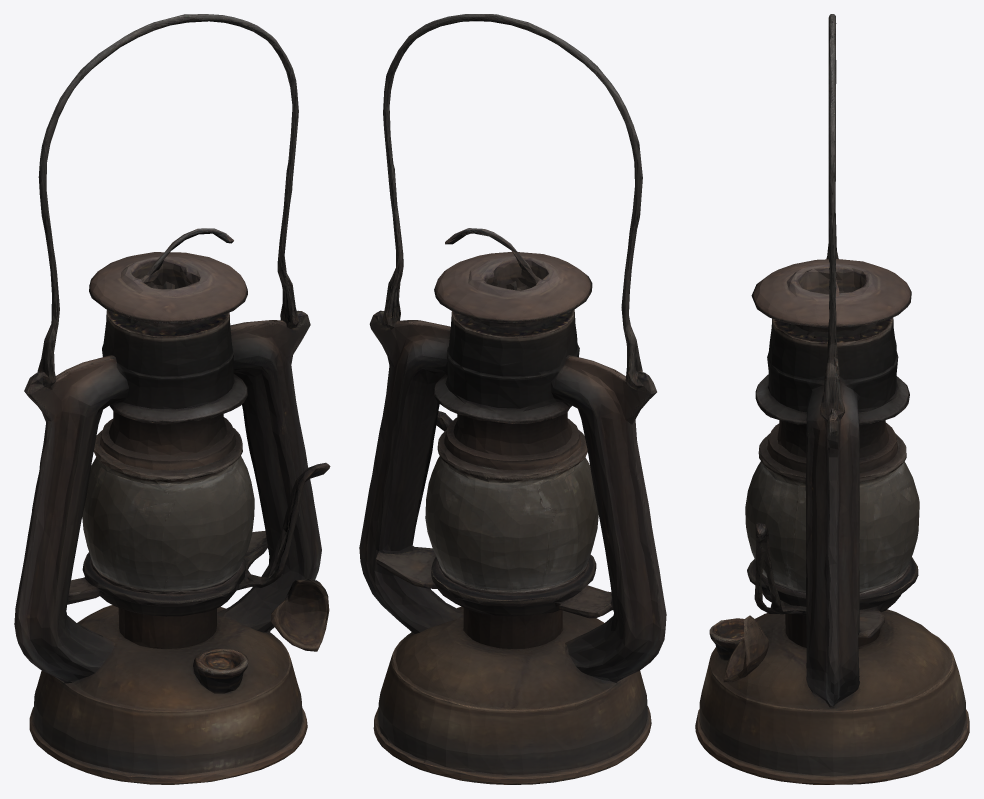
The model's file is Antique1.glb.
3 views of the same model, side by side, from view 1: azimuth 30°, elevation 25°; view 2: azimuth 150°, elevation 25°; view 3: azimuth 270°, elevation 25° (orthographic).
Visible parts, largest first — view 1: world; view 2: world; view 3: world.
Boxes of the visible parts, x1,y1,x2,y2 form: world: (14, 14, 330, 784); world: (359, 14, 666, 784); world: (695, 14, 969, 784).
Size of the model in its own units: 0.4515 by 1 by 0.3558.
Materials: 1 (1 with a texture image).
